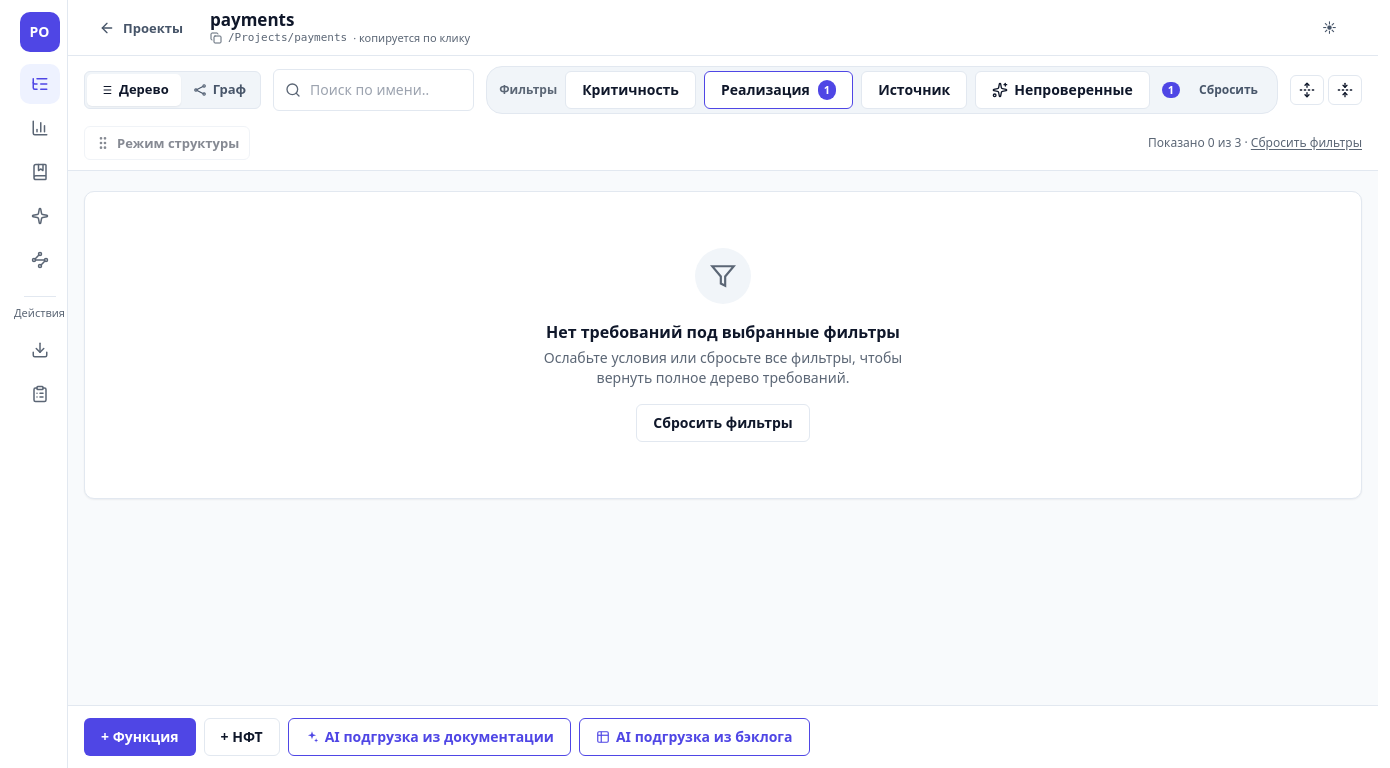
Main page (E11 integration) › UX-6: offers "Сбросить фильтры" when filters hide everything, and restores the tree
This screenshot has width=1390, height=768.
Click the button with test id "filters-reset".
click(723, 423)  # box left=636, top=404, right=810, bottom=442
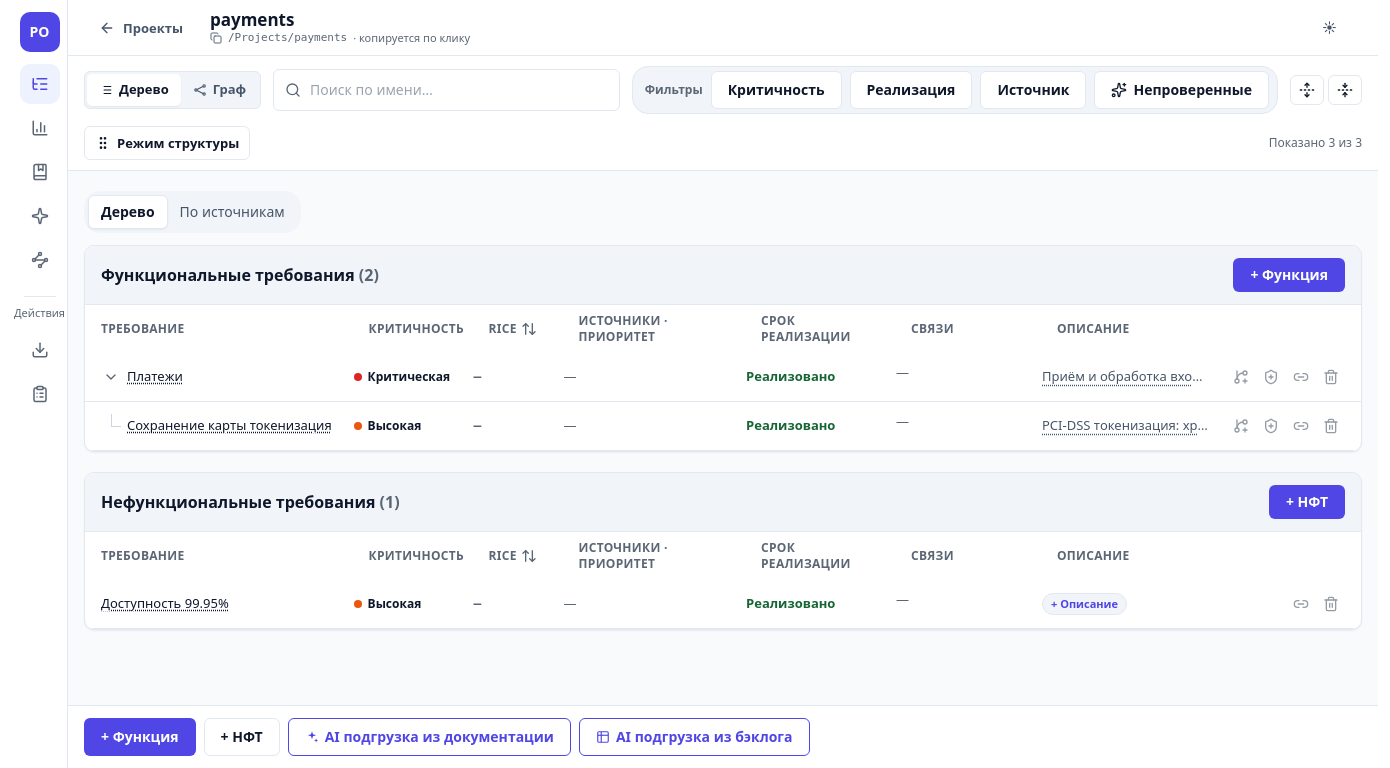
Now the row with test id "tree-row-pay" is shown, box left=85, top=353, right=1361, bottom=402
